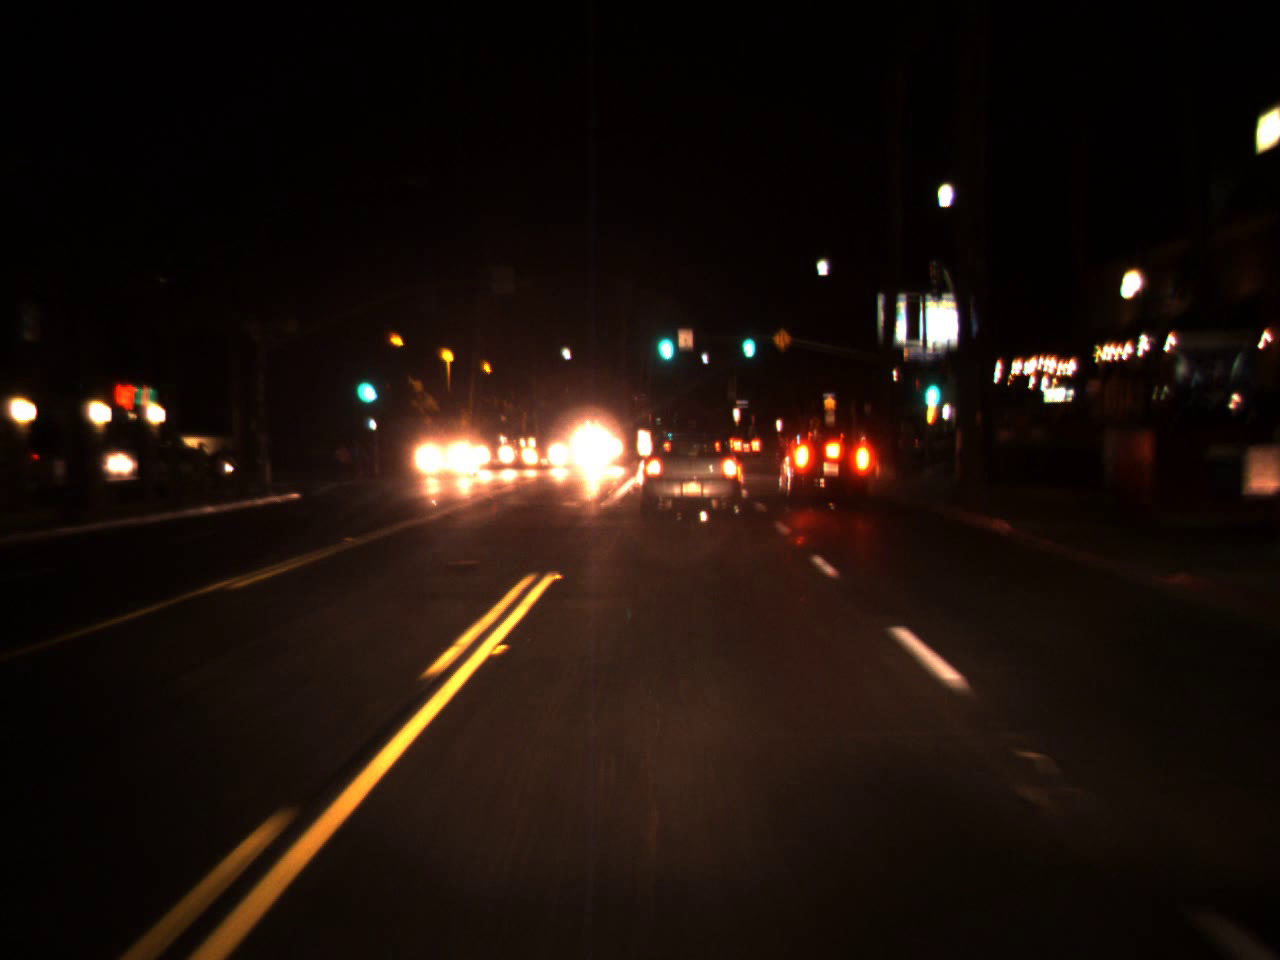go: (733, 308, 761, 368), (351, 357, 378, 411), (652, 311, 677, 368), (920, 366, 941, 414)
